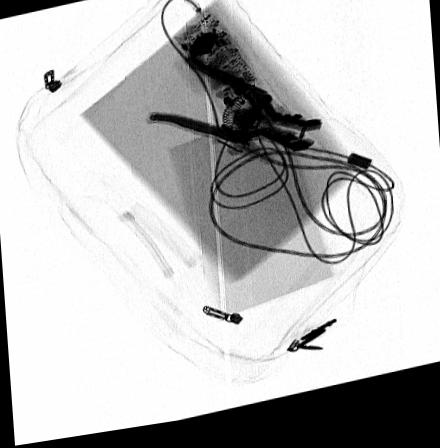Pliers: (146, 62, 323, 163)
